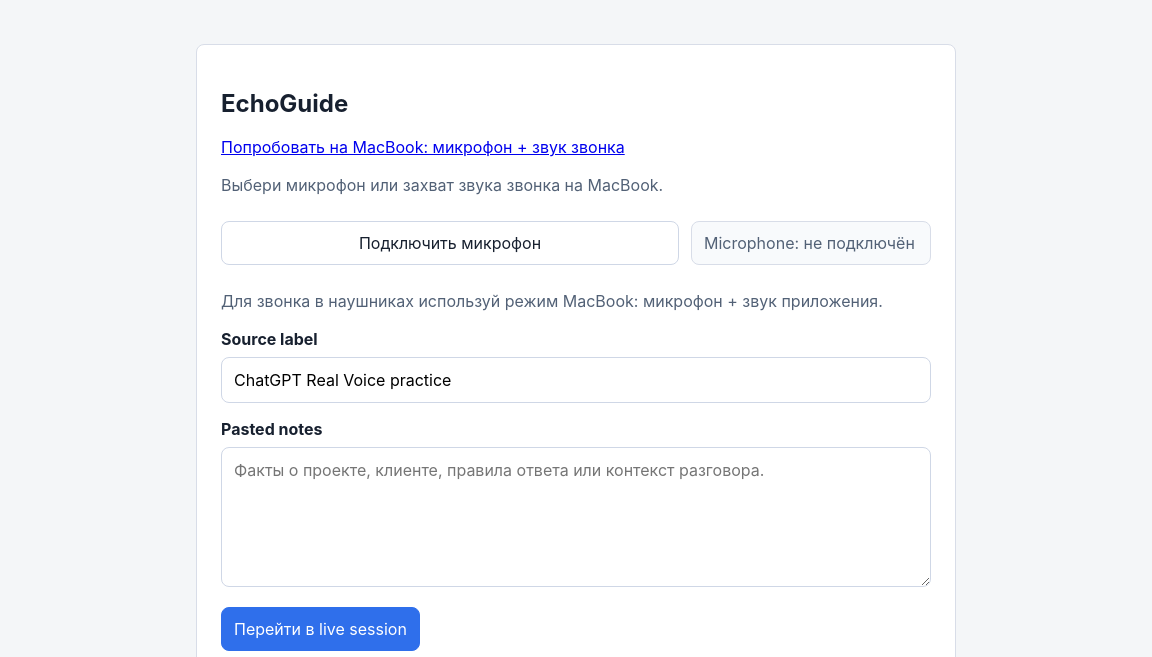
Test case: EchoGuide iPad setup flow › enters realtime training mode after microphone and notes
Step 1. Click the button "Подключить микрофон" → (450, 243), box [221,221,679,265]
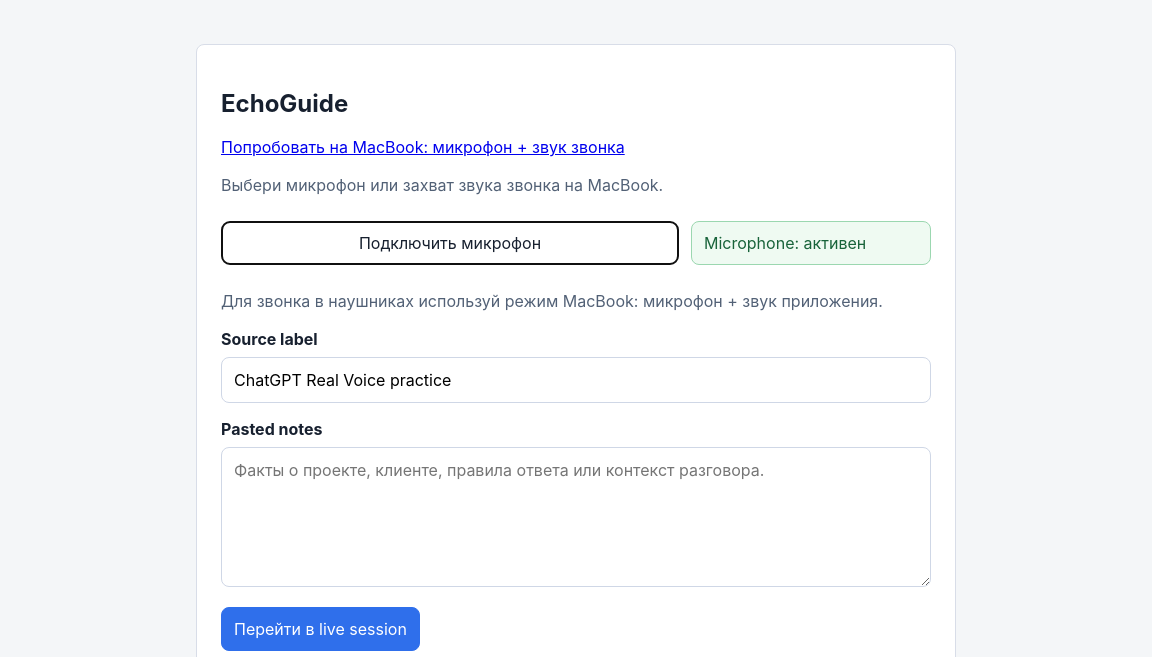
Step 2. Type "Mention dependency review." into the text box labelled "Pasted notes" → (576, 517), box [221,447,931,587]
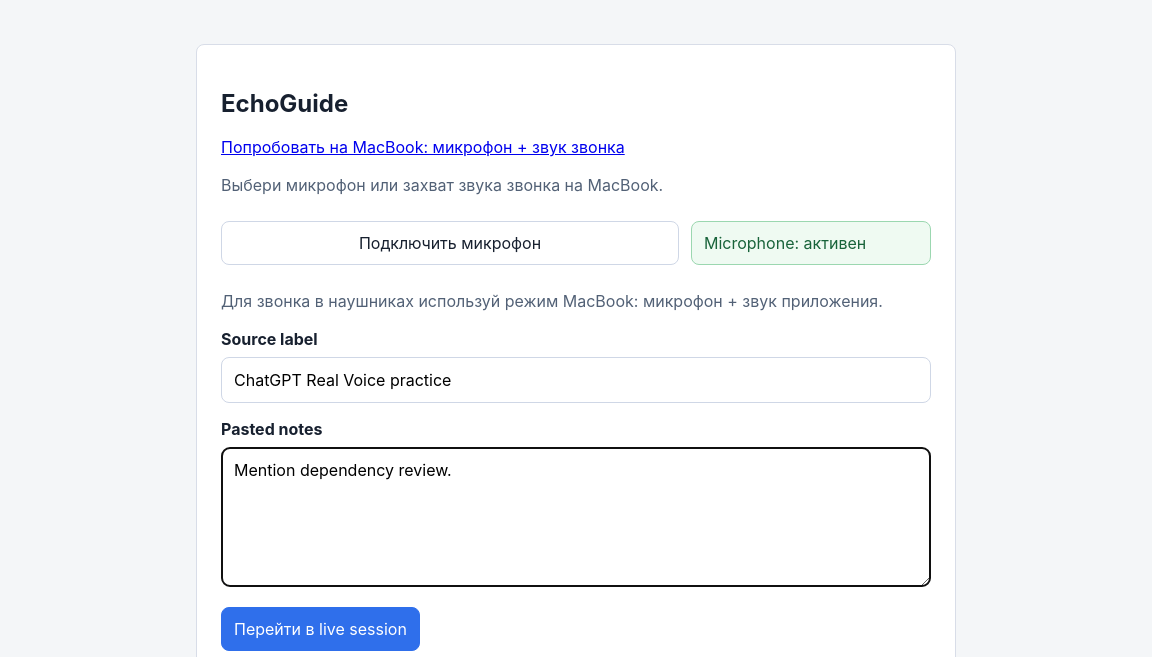
Step 3. Click the button "Перейти в live session" → (320, 629), box [221,607,420,651]
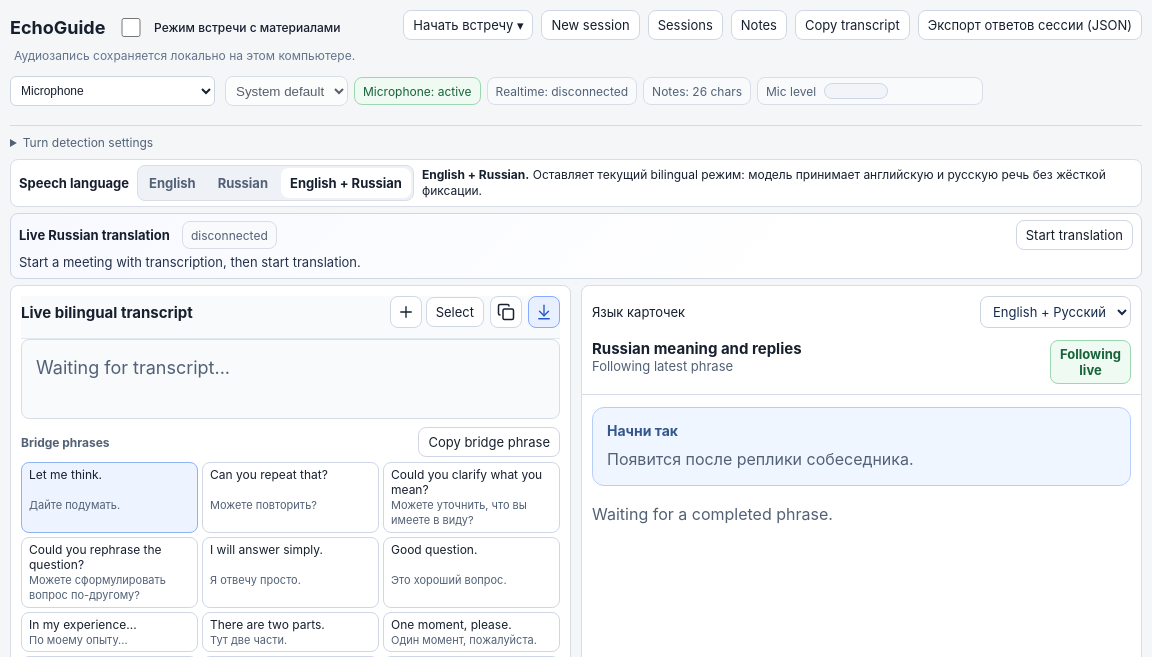
Check: the heading "EchoGuide" is shown, box [10,18,105,37]
Check: the button "Начать встречу ▾" is shown, box [403,10,533,40]
